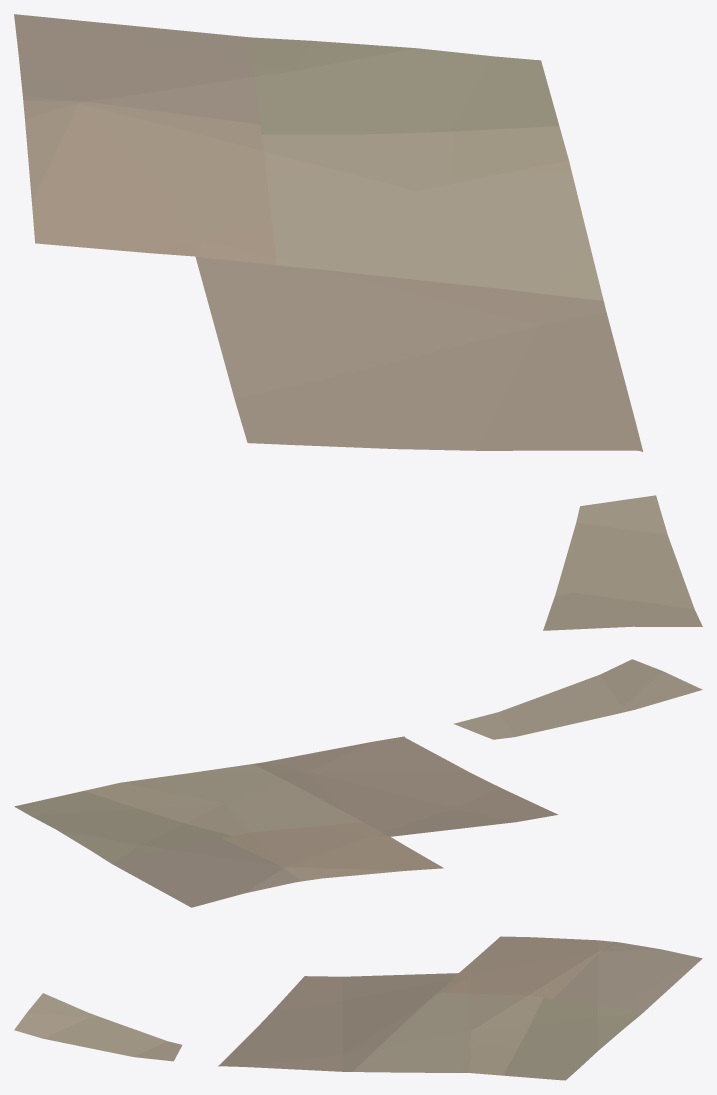
Rendered from farm_0_1_soil.glb.
3 views of the same model, one above another, from view 1: azimuth 30°, elevation 25°; view 2: azimuth 150°, elevation 25°; view 3: azimuth 270°, elevation 25° (orthographic). The views are drawn at different scales.
Visible parts, largest first — view 1: geometry_0; view 2: geometry_0; view 3: geometry_0.
Boxes of the visible parts, x1=… form: geometry_0: x1=14, y1=14, x2=702, y2=630; geometry_0: x1=14, y1=659, x2=702, y2=907; geometry_0: x1=14, y1=936, x2=702, y2=1080.
Size of the model in its own units: 213 by 50.66 by 433.
